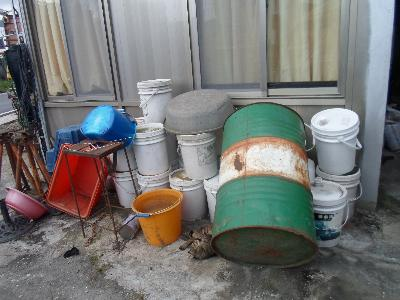bottle: (118, 213, 140, 241)
bowl: (163, 88, 239, 137), (3, 183, 49, 223)
box: (44, 142, 112, 221)
bucket: (211, 101, 320, 270), (308, 107, 362, 175), (131, 186, 186, 248), (305, 179, 349, 248), (79, 104, 137, 151), (125, 122, 171, 176), (177, 132, 221, 181), (170, 169, 208, 223), (136, 77, 176, 124), (112, 168, 141, 209)
